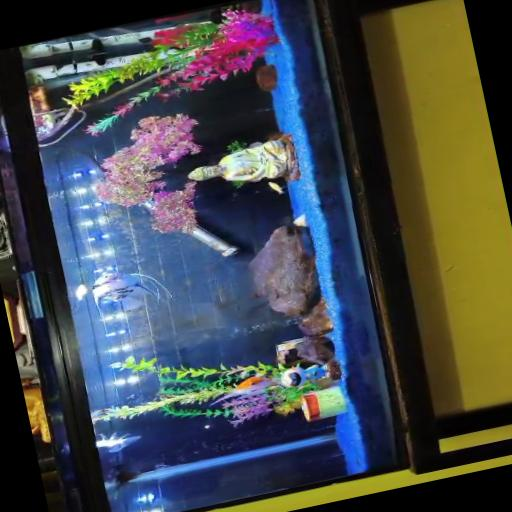Fish: (92, 271, 171, 309), (210, 375, 279, 405), (96, 433, 141, 452), (268, 181, 284, 193)
